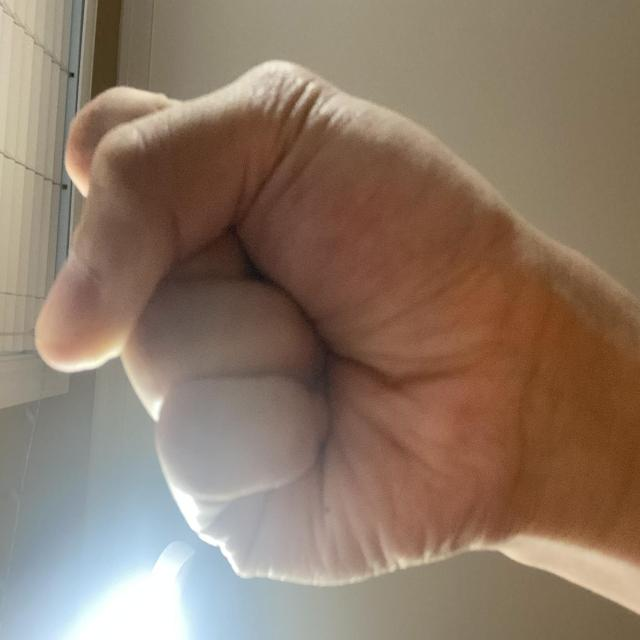S: (32, 35, 441, 640)
